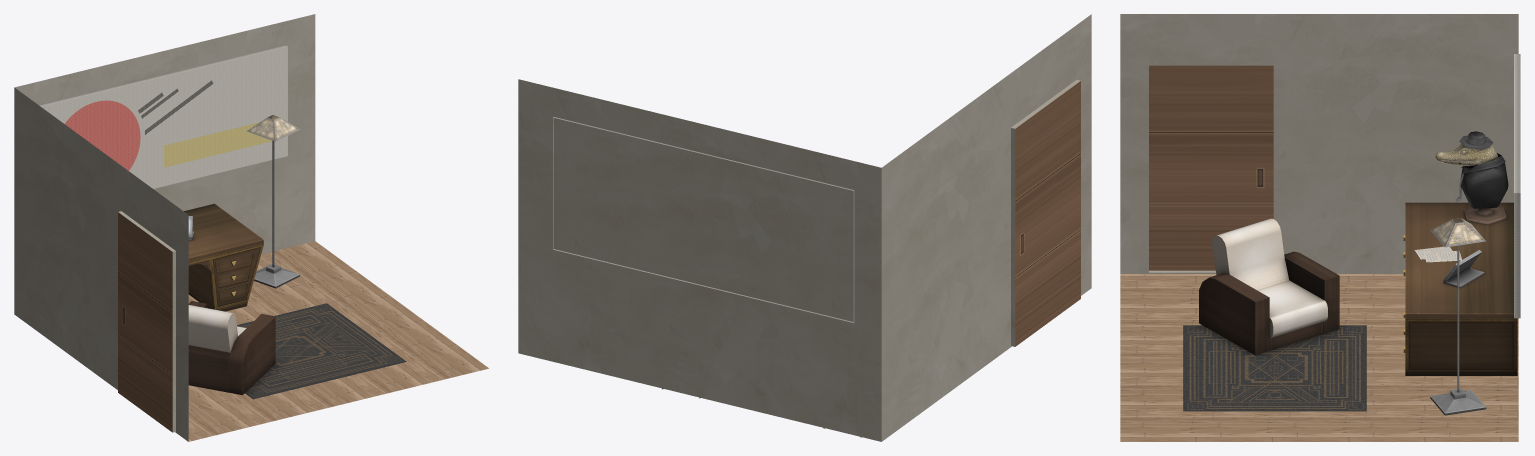
3 renders of one model, left to right at view 1: azimuth 30°, elevation 25°; view 2: azimuth 150°, elevation 25°; view 3: azimuth 270°, elevation 25°, orthographic. The views are drawn at different scales.
Visible parts, largest first — view 1: murs, paint, tapis, seat, desk, lamp; view 2: murs, paint; view 3: murs, desk, tapis, seat, Buste, lamp, paint, tablette, papers.
Boxes of the visible parts, x1,y1,x2,y2 form: murs: (14, 14, 488, 441); paint: (39, 45, 287, 188); tapis: (237, 303, 406, 399); seat: (188, 301, 275, 394); desk: (184, 203, 263, 311); lamp: (247, 115, 300, 288); murs: (518, 14, 1091, 441); paint: (553, 117, 854, 322); murs: (1120, 14, 1518, 441); desk: (1403, 202, 1517, 375); tapis: (1183, 325, 1366, 411); seat: (1199, 218, 1339, 355); Buste: (1435, 131, 1508, 224); lamp: (1430, 218, 1486, 415); paint: (1514, 54, 1520, 318); tablette: (1443, 250, 1484, 288); papers: (1414, 246, 1461, 262).
Size of the model in its own units: 3.63 by 2.62 by 3.61.
Materials: 9 (9 with a texture image).
